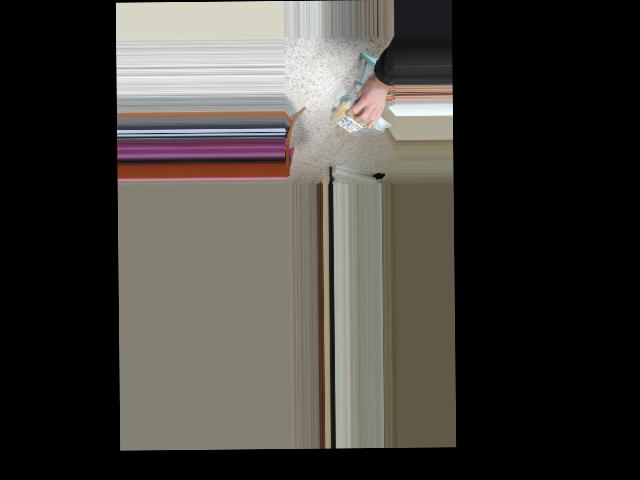cheese: (323, 104, 388, 132)
